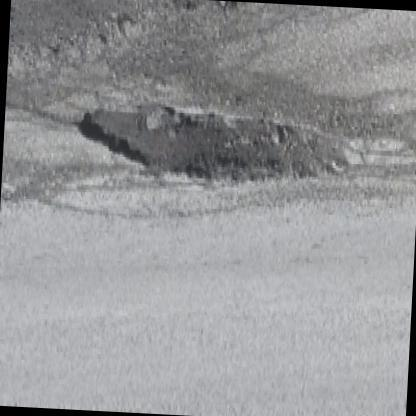pothole: (71, 98, 355, 190)
